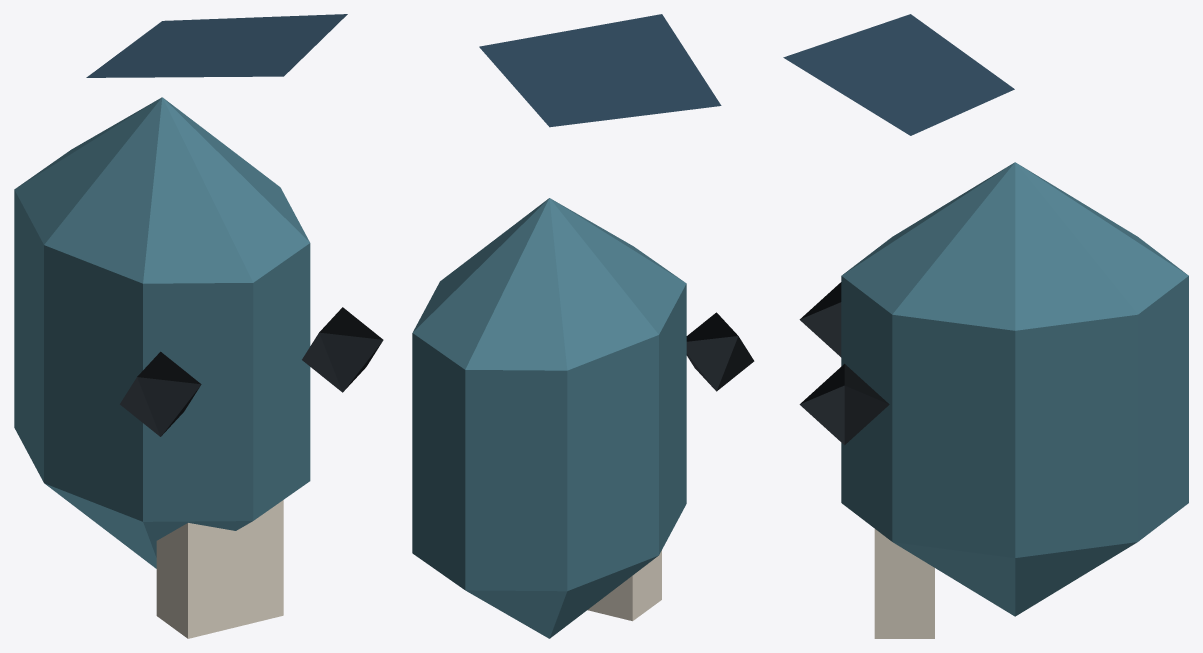
Rendered from fish_mackerel.glb.
3 renders of one model, left to right at view 1: azimuth 30°, elevation 25°; view 2: azimuth 150°, elevation 25°; view 3: azimuth 270°, elevation 25°, orthographic. The views are drawn at different scales.
Visible parts, largest first — view 1: fish_mackerel; view 2: fish_mackerel; view 3: fish_mackerel.
Boxes of the visible parts, left/top/right/bottom form: fish_mackerel: left=14, top=14, right=383, bottom=638; fish_mackerel: left=412, top=14, right=754, bottom=638; fish_mackerel: left=783, top=14, right=1188, bottom=638.
Bounding box in the file's own units: 0.4716 × 1 × 0.6579.
